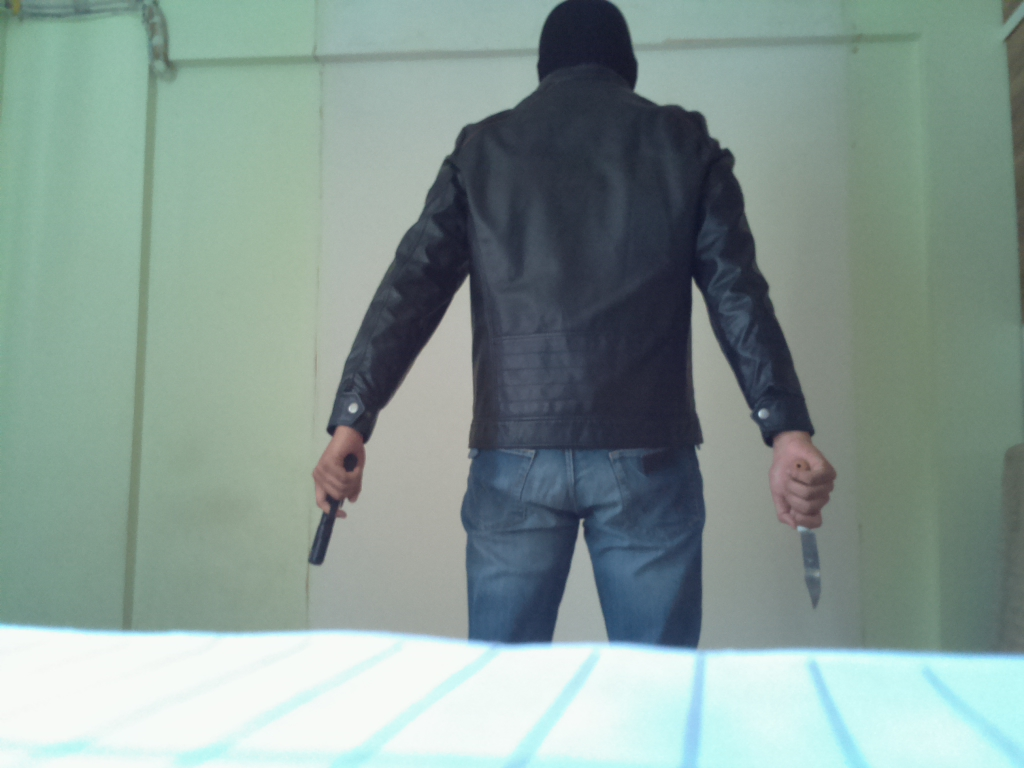gun: (303, 454, 366, 577)
knife: (786, 458, 828, 615)
